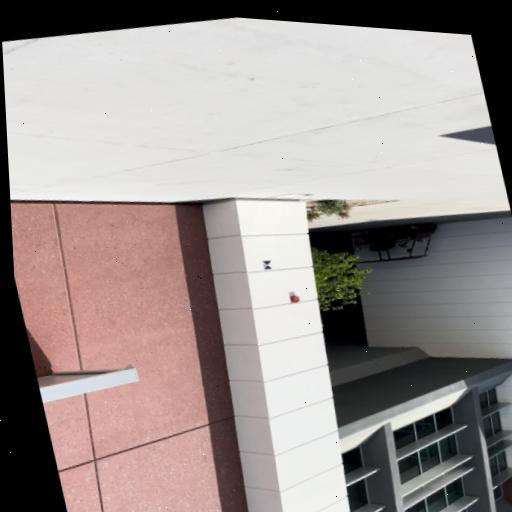target6: (262, 260, 272, 269)
